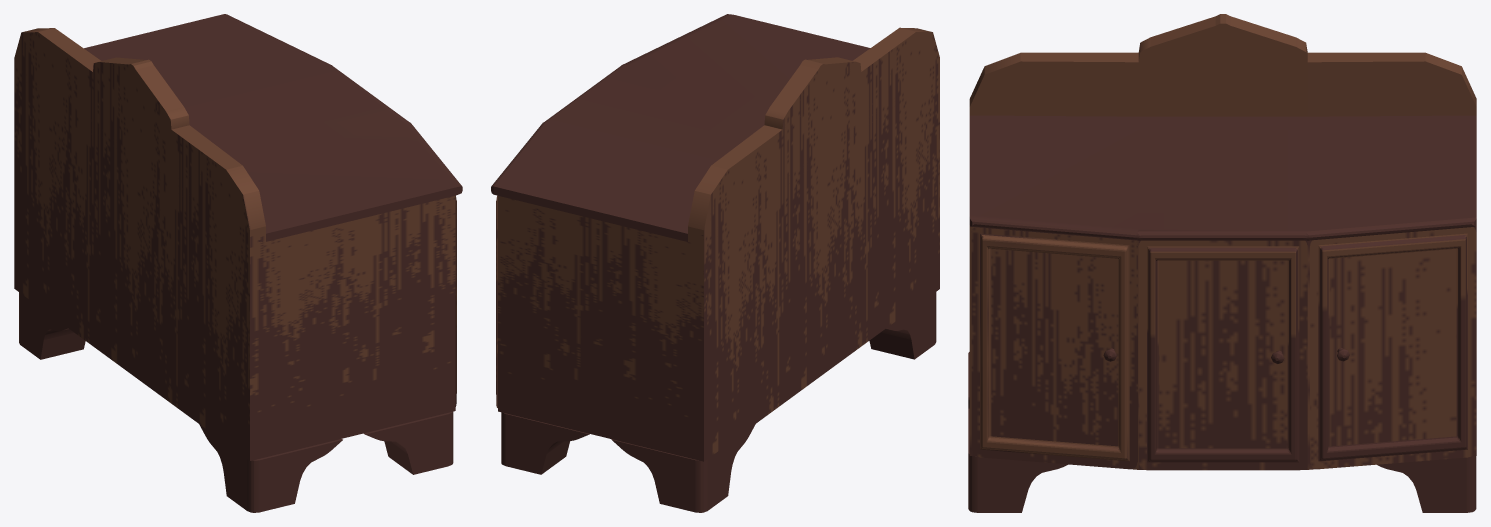
Rendered from dresser.fbx.
The picture shows the model from 3 angles, left to right: view 1: azimuth 30°, elevation 25°; view 2: azimuth 150°, elevation 25°; view 3: azimuth 270°, elevation 25°; orthographic projection. The views are drawn at different scales.
Visible parts, largest first — view 1: Cube.011, Plane.051, Plane.050, Plane.052; view 2: Cube.011, Plane.052, Plane.053, Plane.051; view 3: Cube.011, Cube.013, Cube.014, Cube.015, Plane.050, Plane.053.
Part boxes in pixels (x1,y1,x2,y2): Cube.011: (14,14,462,460); Plane.051: (199,424,342,512); Plane.050: (364,411,453,474); Plane.052: (19,292,85,359); Cube.011: (491,14,939,461); Plane.052: (611,424,755,512); Plane.053: (501,412,589,474); Plane.051: (869,292,936,359); Cube.011: (969,14,1476,469); Cube.013: (1138,240,1307,470); Cube.014: (1310,227,1476,469); Cube.015: (971,227,1137,469); Plane.050: (968,408,1068,512); Plane.053: (1377,456,1476,512).
Bounding box in the file's own units: 238 × 337 × 398.
